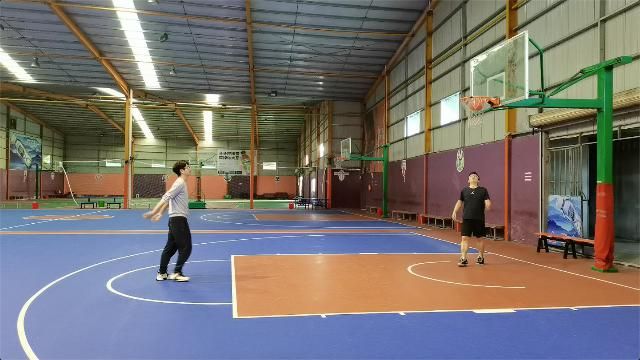basket: (459, 95, 489, 126)
goal: (468, 94, 484, 111)
